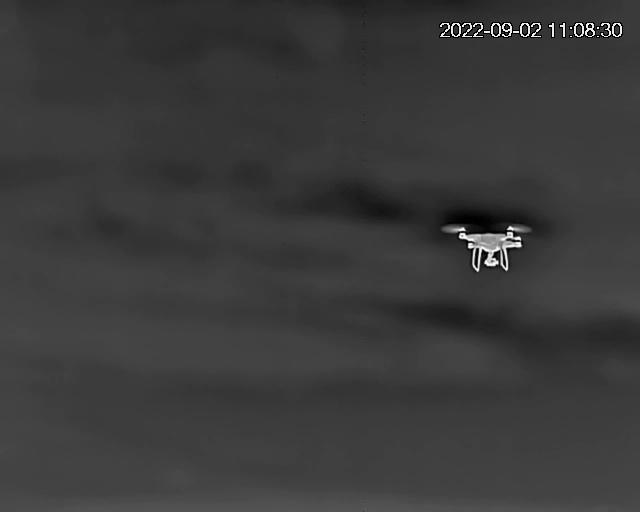DJI-Phantom: (445, 222, 536, 275)
